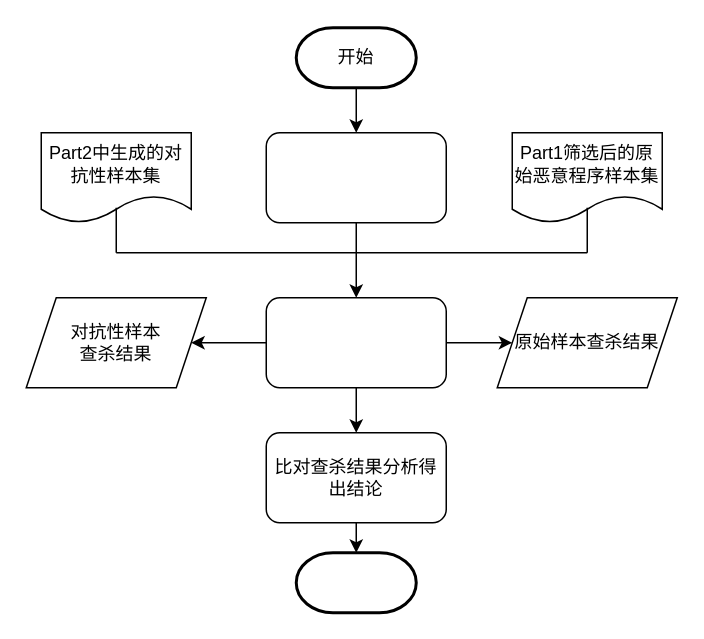
Some shapes in this 704 by 639 pixel diagram are drawn without their labels. The shapes that lost their labels are listed below. From the top down, each one's centre as x and y in pixels, then its label:
At pixel 355 177: "运行使用ClamAV反病毒软件构造的恶意程序扫描模块".
At pixel 355 342: "进行扫描产生样本查杀结果".
At pixel 355 582: "结束".
